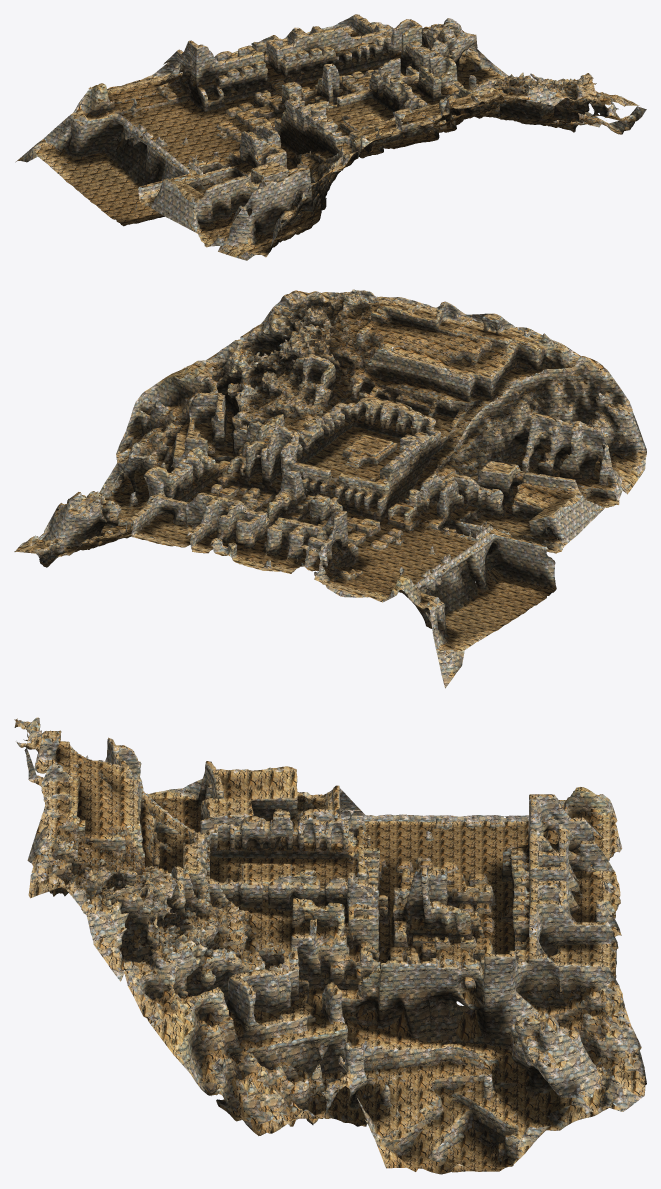
The model's file is ruins.glb.
3 views of the same model, one above another, from view 1: azimuth 30°, elevation 25°; view 2: azimuth 150°, elevation 25°; view 3: azimuth 270°, elevation 25° (orthographic). The views are drawn at different scales.
Visible parts, largest first — view 1: Ruins_Wall, Ruins_Ground; view 2: Ruins_Wall, Ruins_Ground; view 3: Ruins_Wall, Ruins_Ground.
Boxes of the visible parts, x1=… form: Ruins_Wall: x1=15, y1=15, x2=646, y2=260; Ruins_Ground: x1=18, y1=14, x2=644, y2=259; Ruins_Wall: x1=19, y1=289, x2=646, y2=688; Ruins_Ground: x1=14, y1=290, x2=646, y2=677; Ruins_Wall: x1=15, y1=717, x2=646, y2=1170; Ruins_Ground: x1=14, y1=719, x2=645, y2=1174.
Size of the model in its own units: 86.45 by 32.73 by 74.21.
2 materials, 2 textured.
